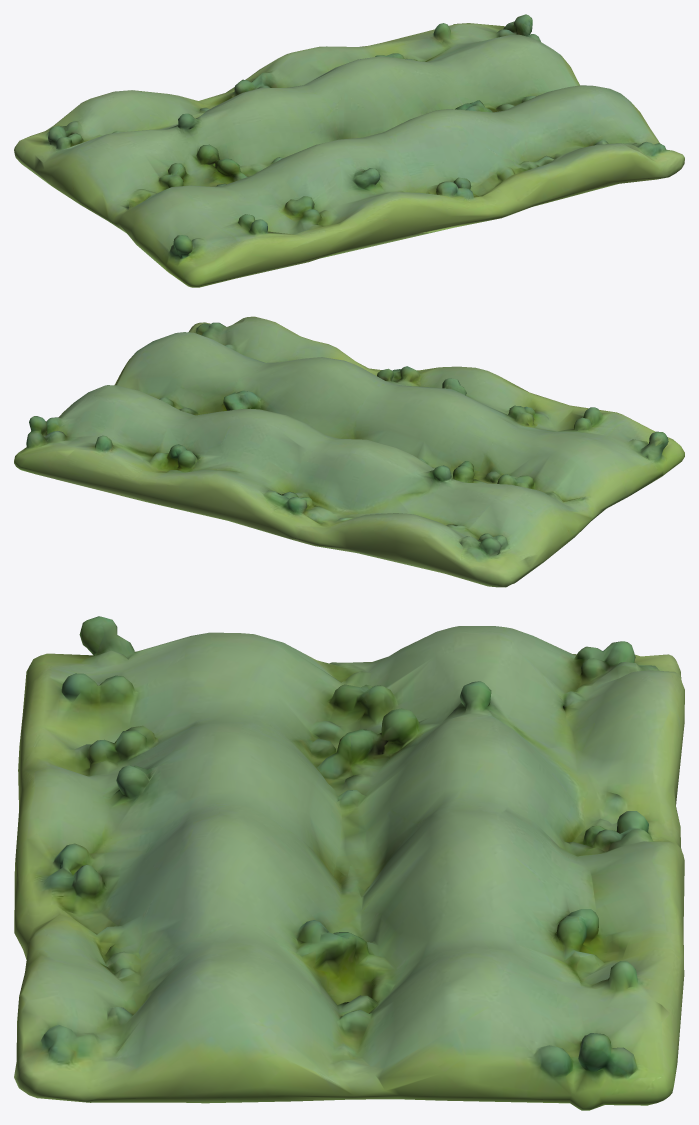
File: scenery-distant-hill.glb
The picture shows the model from 3 angles, top to bottom: view 1: azimuth 30°, elevation 25°; view 2: azimuth 150°, elevation 25°; view 3: azimuth 270°, elevation 25°; orthographic projection. The views are drawn at different scales.
Parts seen in each view (by area): view 1: Mesh_0; view 2: Mesh_0; view 3: Mesh_0.
Part boxes in pixels (x1,y1,x2,y2): Mesh_0: (14, 14, 684, 287); Mesh_0: (14, 316, 684, 587); Mesh_0: (14, 616, 684, 1110).
Size of the model in its own units: 2 by 0.2539 by 1.31.
1 material, 1 textured.
